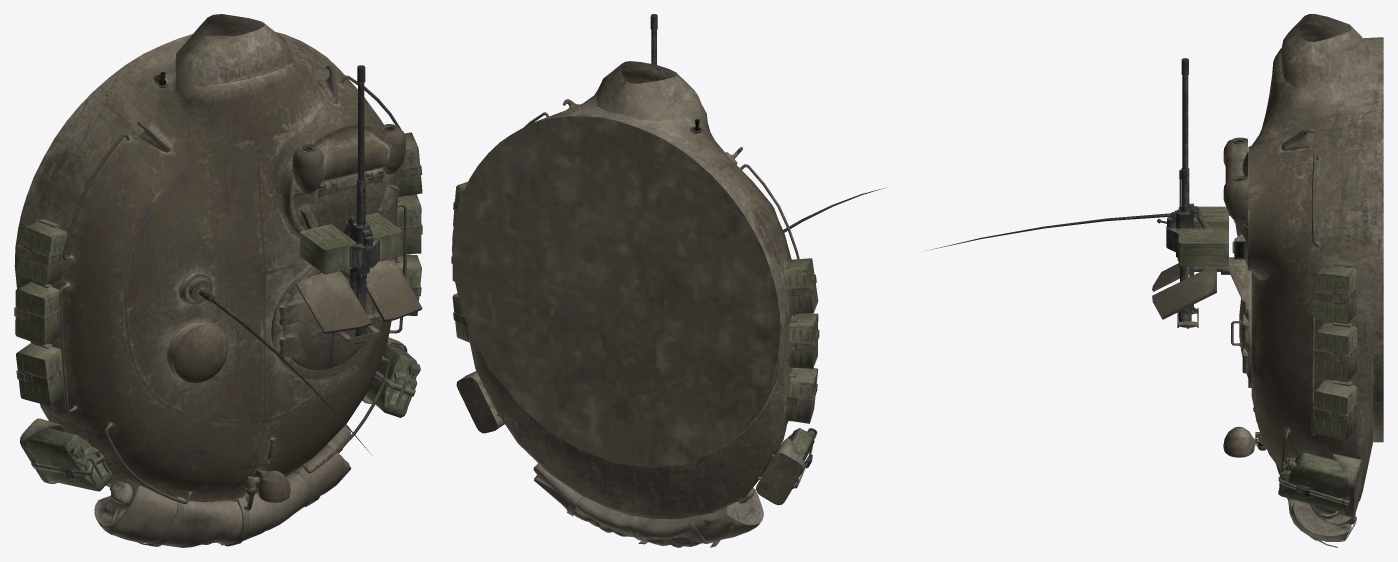
Rendered from Turret_02.glb.
3 renders of one model, left to right at view 1: azimuth 30°, elevation 25°; view 2: azimuth 150°, elevation 25°; view 3: azimuth 270°, elevation 25°, orthographic. The views are drawn at different scales.
Visible parts, largest first — view 1: set_0_group_0; view 2: set_0_group_0; view 3: set_0_group_0.
Boxes of the visible parts, x1,y1,x2,y2 form: set_0_group_0: (14,14,422,547); set_0_group_0: (451,14,885,547); set_0_group_0: (927,14,1383,547).
Bounding box in the file's own units: 2.73 × 3.35 × 2.83.
1 material, 1 textured.
